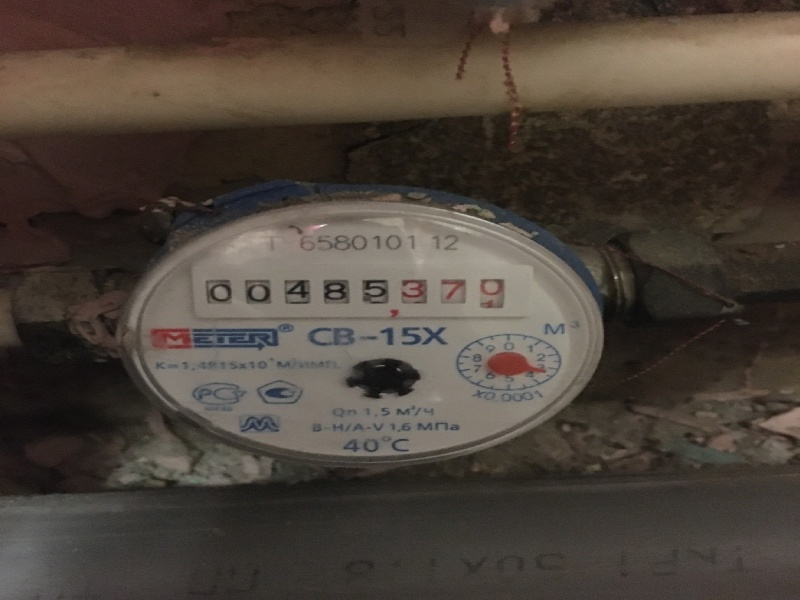meter: (203, 272, 526, 316)
